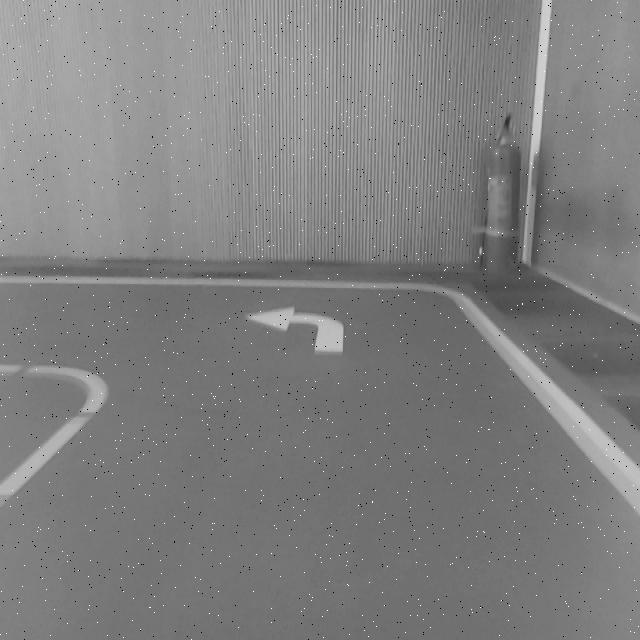left_lane: (0, 389, 110, 510)
right_lane: (457, 291, 640, 511)
